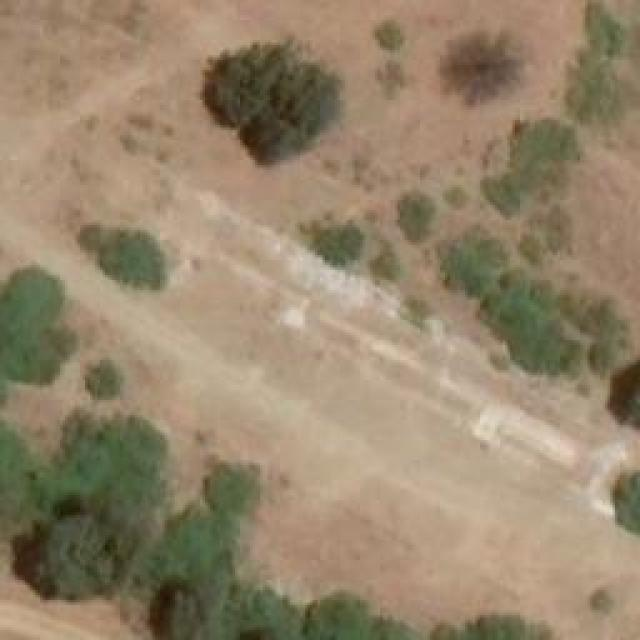Tree: (203, 43, 333, 163), (53, 410, 164, 518), (488, 275, 579, 382), (18, 510, 128, 598), (0, 265, 68, 380), (149, 501, 233, 593), (503, 120, 573, 193), (83, 225, 166, 285), (438, 220, 501, 293), (565, 55, 620, 118), (203, 460, 258, 520), (583, 0, 636, 58), (153, 585, 208, 640), (605, 462, 640, 540), (607, 355, 640, 422), (395, 193, 433, 246), (315, 220, 360, 263), (83, 363, 118, 398), (517, 230, 545, 265), (370, 250, 400, 280), (375, 20, 400, 45), (590, 588, 615, 613), (445, 188, 470, 208)
